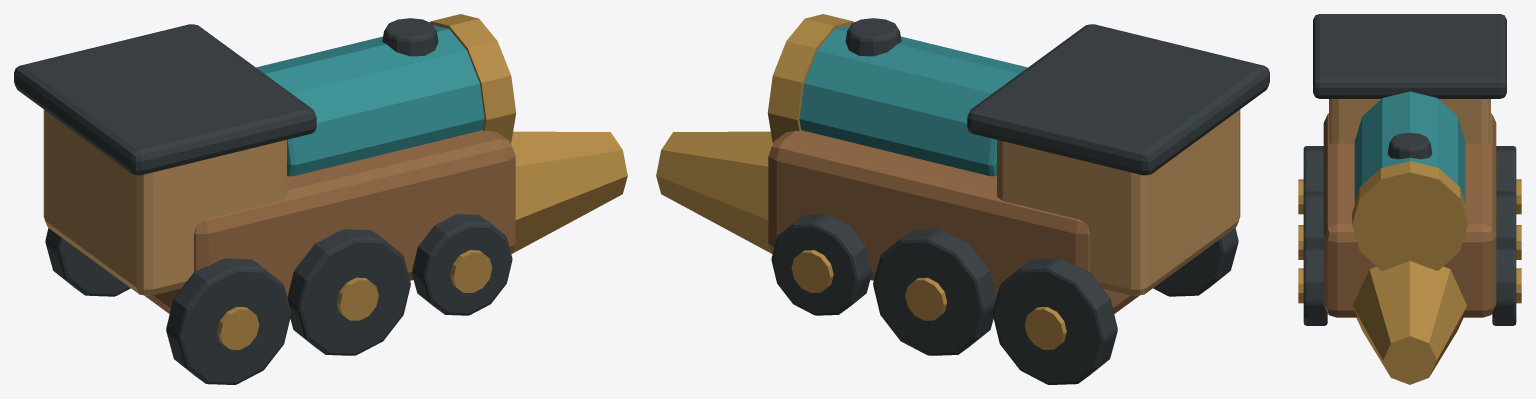
File: toy_train.glb
The picture shows the model from 3 angles, left to right: view 1: azimuth 30°, elevation 25°; view 2: azimuth 150°, elevation 25°; view 3: azimuth 270°, elevation 25°; orthographic projection. The views are drawn at different scales.
Visible parts, largest first — view 1: CabRoof, Body, Cab, Boiler, WheelL0, WheelL1, Cowcatcher, WheelL2, Smokebox, WheelR0, Chimney, HubL1 (+2 smaller); view 2: CabRoof, Body, Cab, Boiler, WheelR0, WheelR1, Cowcatcher, WheelR2, Smokebox, WheelL0, Chimney, HubR1 (+2 smaller); view 3: CabRoof, Body, Smokebox, Cowcatcher, Boiler, Cab, WheelL2, WheelR2, WheelL1, WheelR1, Chimney, WheelL0 (+7 smaller).
Part boxes in pixels (<box>): CabRoof: <box>14,24,316,175</box>; Body: <box>144,130,515,313</box>; Cab: <box>43,109,286,295</box>; Boiler: <box>256,25,484,176</box>; WheelL0: <box>166,258,291,384</box>; WheelL1: <box>287,229,410,355</box>; Cowcatcher: <box>510,131,627,253</box>; WheelL2: <box>412,214,512,315</box>; Smokebox: <box>430,14,516,143</box>; WheelR0: <box>45,228,130,296</box>; Chimney: <box>382,18,438,56</box>; HubL1: <box>336,277,378,320</box>; CabRoof: <box>967,24,1269,175</box>; Body: <box>768,130,1139,313</box>; Cab: <box>997,109,1240,295</box>; Boiler: <box>799,25,1027,176</box>; WheelR0: <box>992,258,1117,384</box>; WheelR1: <box>873,229,996,355</box>; Cowcatcher: <box>656,131,773,253</box>; WheelR2: <box>771,214,871,315</box>; Smokebox: <box>767,14,853,143</box>; WheelL0: <box>1153,228,1238,296</box>; Chimney: <box>845,18,901,56</box>; HubR1: <box>905,277,947,320</box>; CabRoof: <box>1313,14,1506,98</box>; Body: <box>1323,113,1496,317</box>; Smokebox: <box>1352,161,1467,270</box>; Cowcatcher: <box>1353,261,1466,384</box>; Boiler: <box>1354,91,1465,203</box>; Cab: <box>1329,99,1490,144</box>; WheelL2: <box>1303,245,1327,325</box>; WheelR2: <box>1492,245,1516,325</box>; WheelL1: <box>1303,191,1323,247</box>; WheelR1: <box>1496,191,1516,247</box>; Chimney: <box>1387,132,1432,159</box>; WheelL0: <box>1303,146,1323,193</box>.
Size of the model in its own units: 1.8 by 0.84 by 0.8295.
